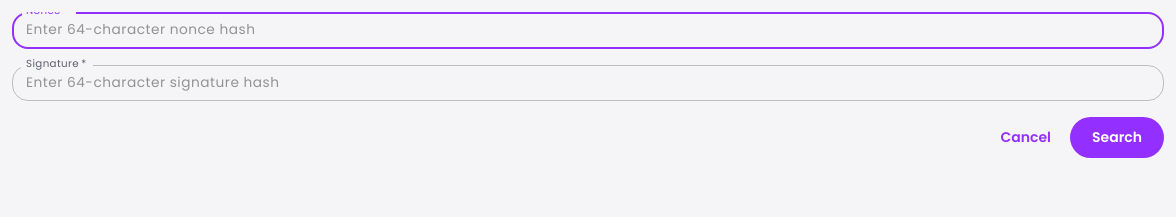
Test: SearchKernel › should clear inputs and close search when cancel is clicked
The width and height of the screenshot is (1176, 217).
# Add some input
In the field labelled "Nonce *": (588, 30) [12,12,1164,49], type "test-nonce"
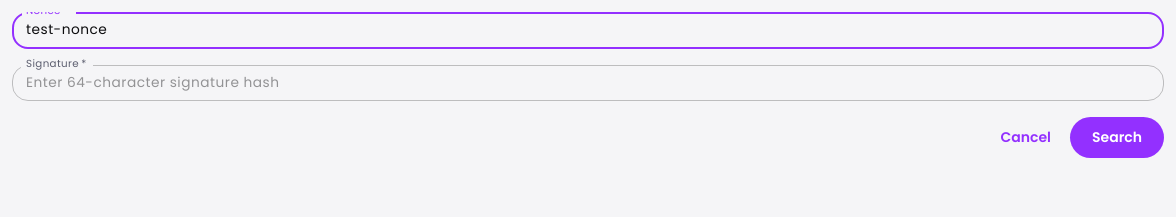
In the field labelled "Signature *": (588, 83) [12,65,1164,101], type "test-signature"
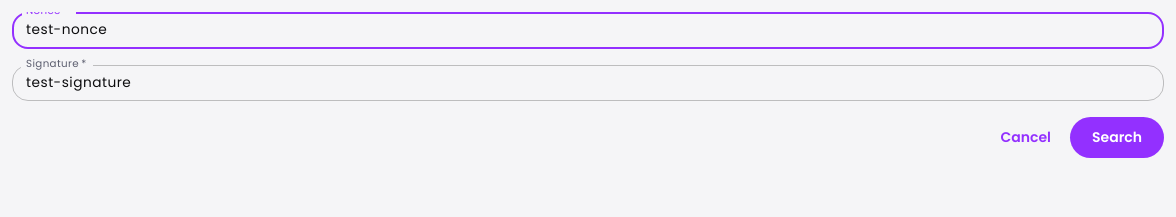
Click the button "Cancel": (1026, 138) [990,117,1062,158]
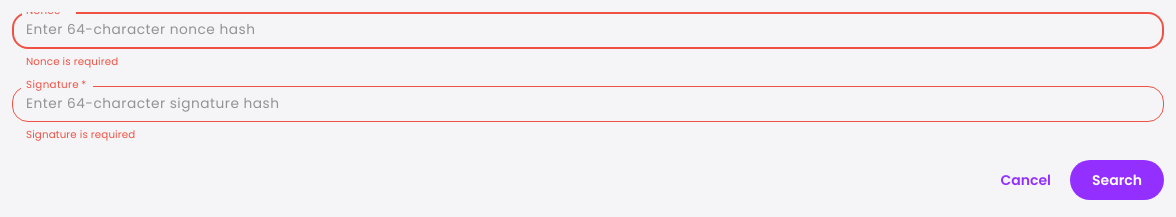
Result: the field labelled "Nonce *" is empty at [12,12,1164,49]
Result: the field labelled "Signature *" is empty at [12,86,1164,122]
